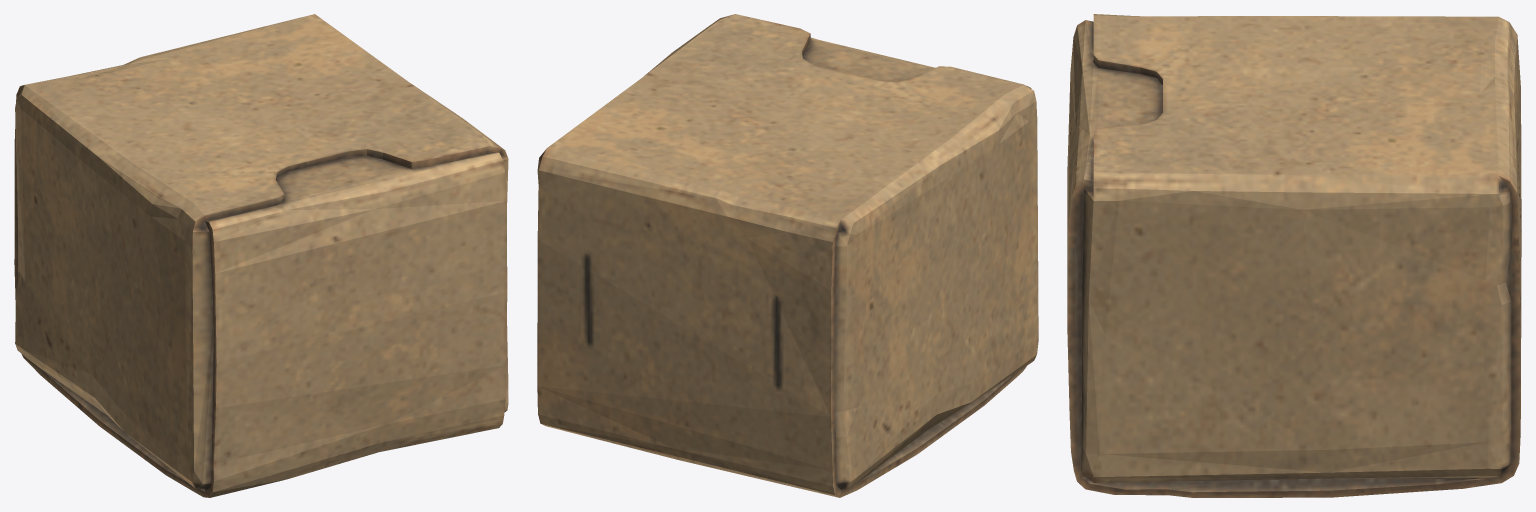
3 views of the same model, side by side, from view 1: azimuth 30°, elevation 25°; view 2: azimuth 150°, elevation 25°; view 3: azimuth 270°, elevation 25° (orthographic). The views are drawn at different scales.
Visible parts, largest first — view 1: TW_64acea0d03378853630da53b_PZ_Import; view 2: TW_64acea0d03378853630da53b_PZ_Import; view 3: TW_64acea0d03378853630da53b_PZ_Import.
Part boxes in pixels (x1,y1,x2,y2): TW_64acea0d03378853630da53b_PZ_Import: (14, 14, 508, 497); TW_64acea0d03378853630da53b_PZ_Import: (537, 14, 1038, 497); TW_64acea0d03378853630da53b_PZ_Import: (1067, 14, 1521, 497).
Size of the model in its own units: 0.0341 by 0.0375 by 0.0296.
1 material, 1 textured.
